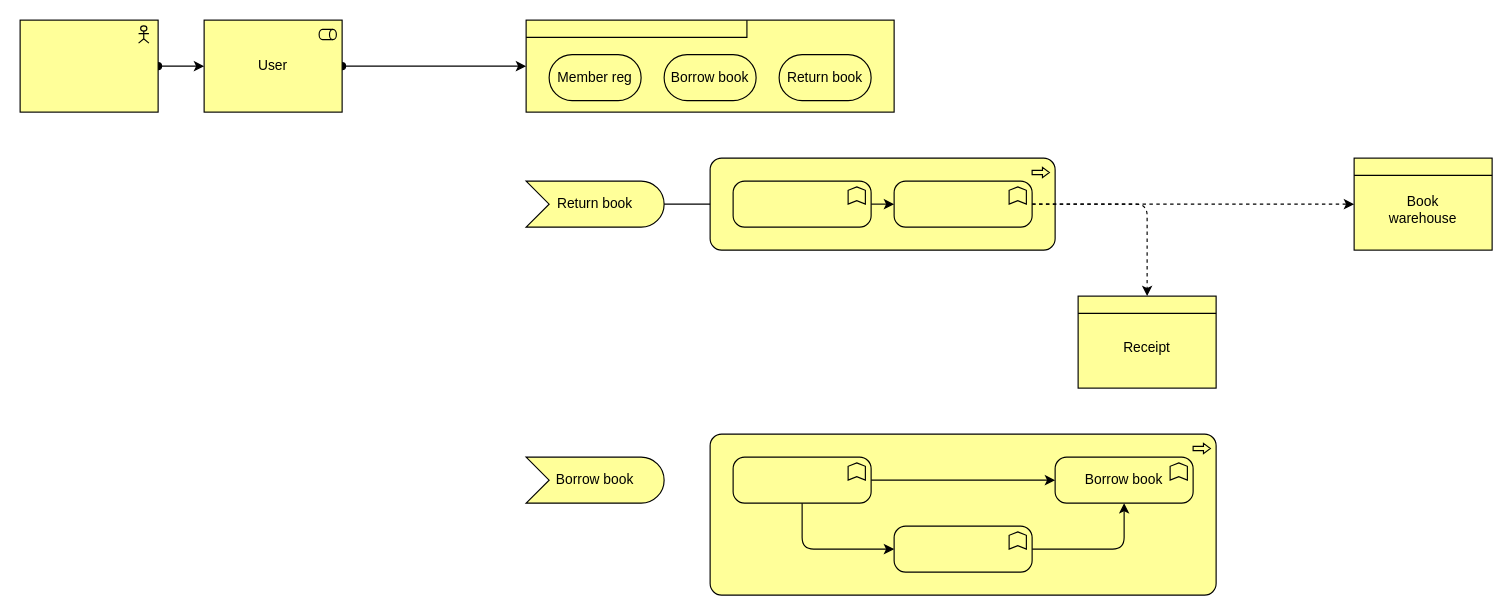
This 1512x615 diagram has some shape labels left out. The centre of each missing label's shape, as x and y in pixels:
Declare book return: (x=801, y=203)
Member: (x=88, y=65)
Pay overdue bill: (x=962, y=203)
Request delivery: (x=962, y=548)
Search book: (x=801, y=479)
